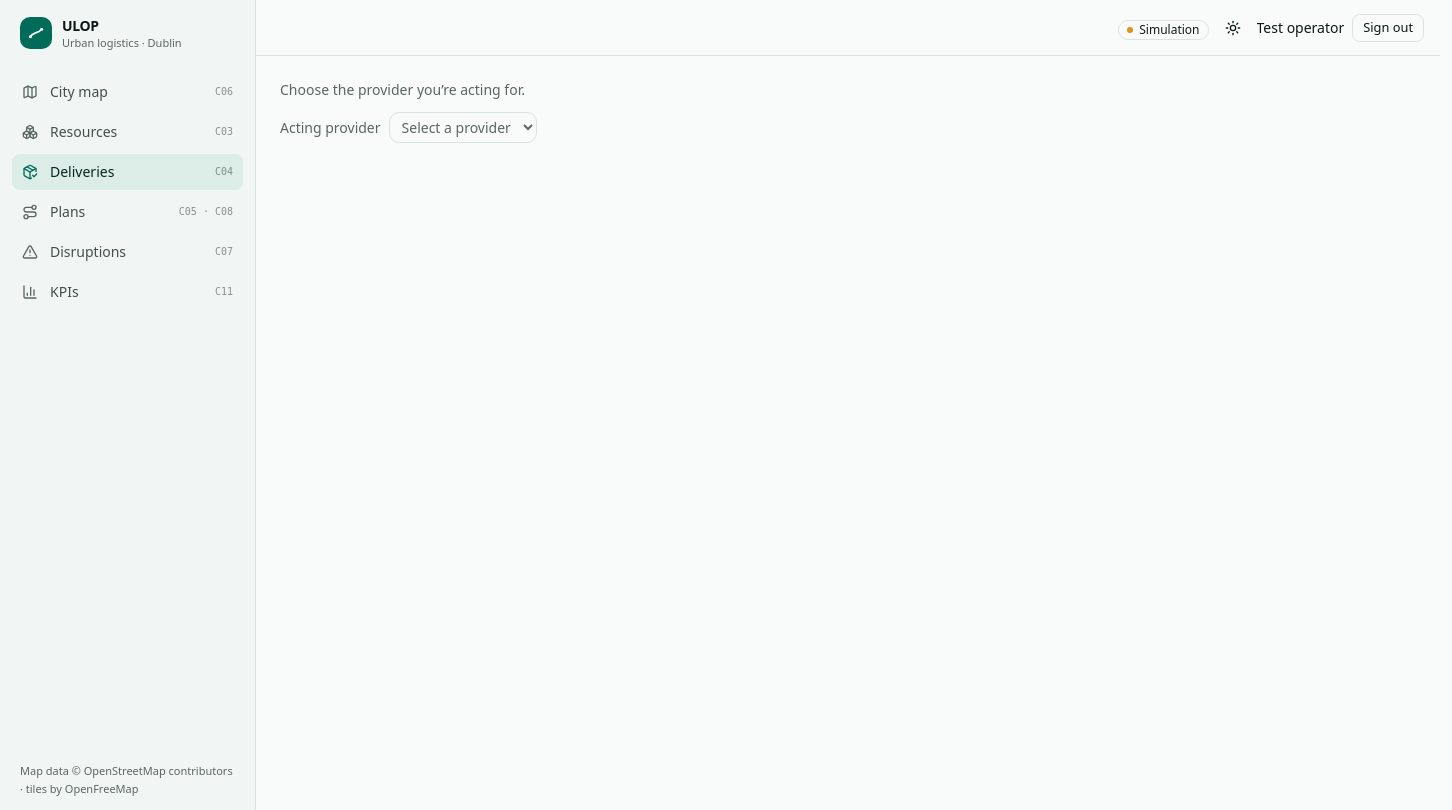
Test case: Deliveries page (C01 → C04) › keeps a chosen window until the Dublin preset is explicitly reset to the current UTC window
Select "Dublin Fleet A" in the dropdown labelled "Acting provider": (463, 128) [389, 112, 537, 143]
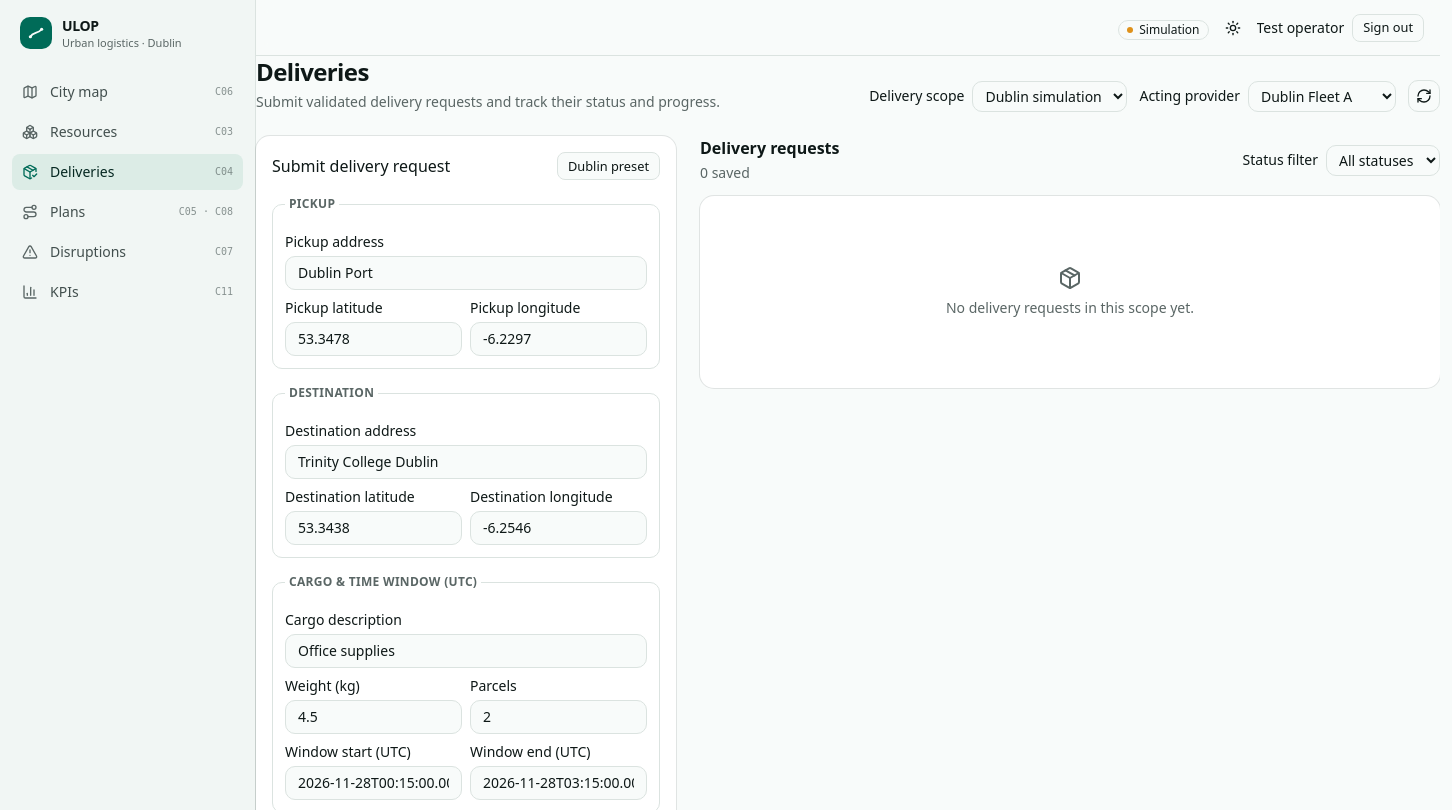
Expected: the field labelled "Window start (UTC)" holds "2026-11-28T00:15:00.000Z"
Expected: the field labelled "Window end (UTC)" holds "2026-11-28T03:15:00.000Z", [470, 766, 647, 800]
Replace the text in the field labelled "Window start (UTC)" with "2026-12-01T08:00:00Z": (374, 783) [285, 766, 462, 800]
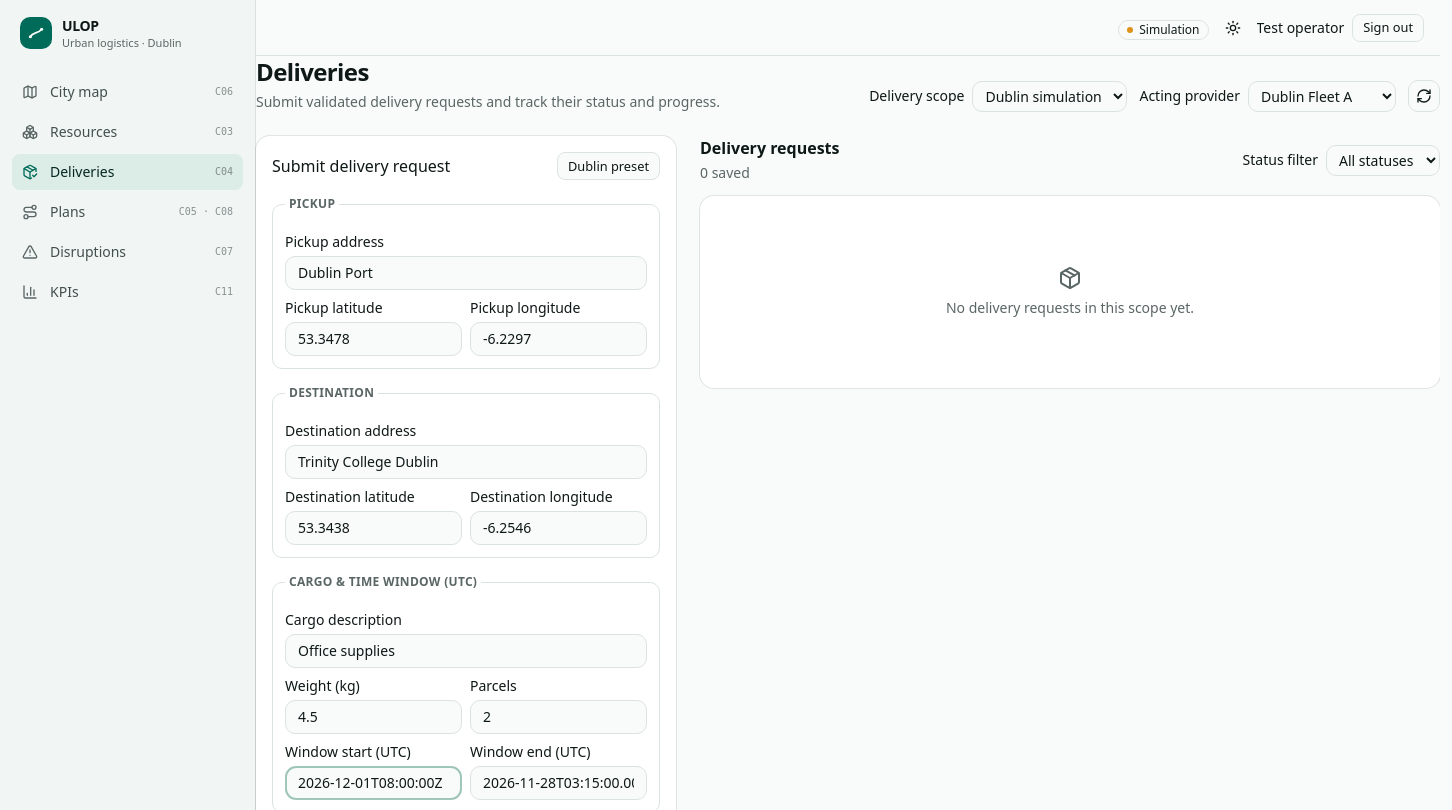
Click the button named "Refresh deliveries": (1424, 96) [1408, 80, 1440, 112]
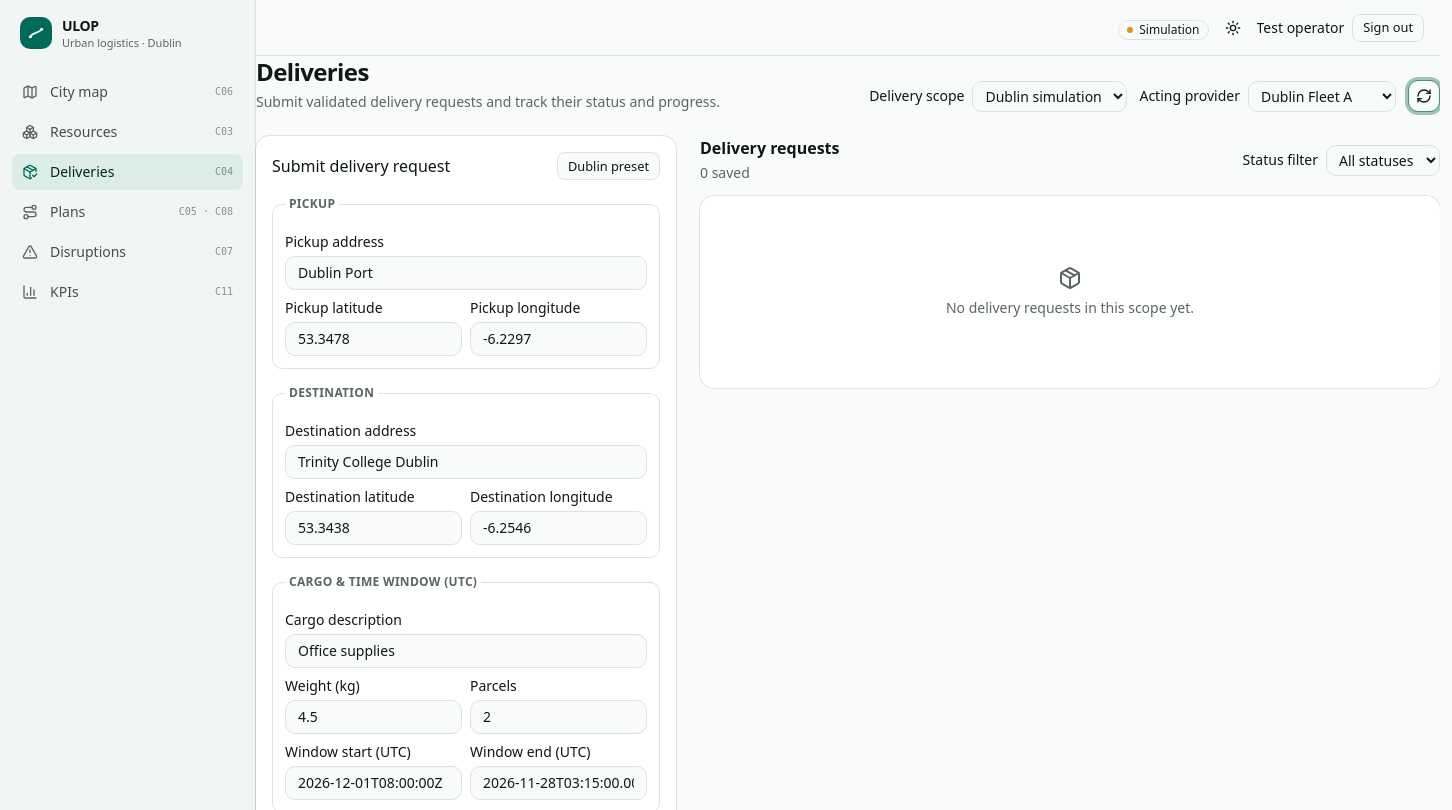
Click the button "Dublin preset": (608, 166) [557, 152, 660, 180]
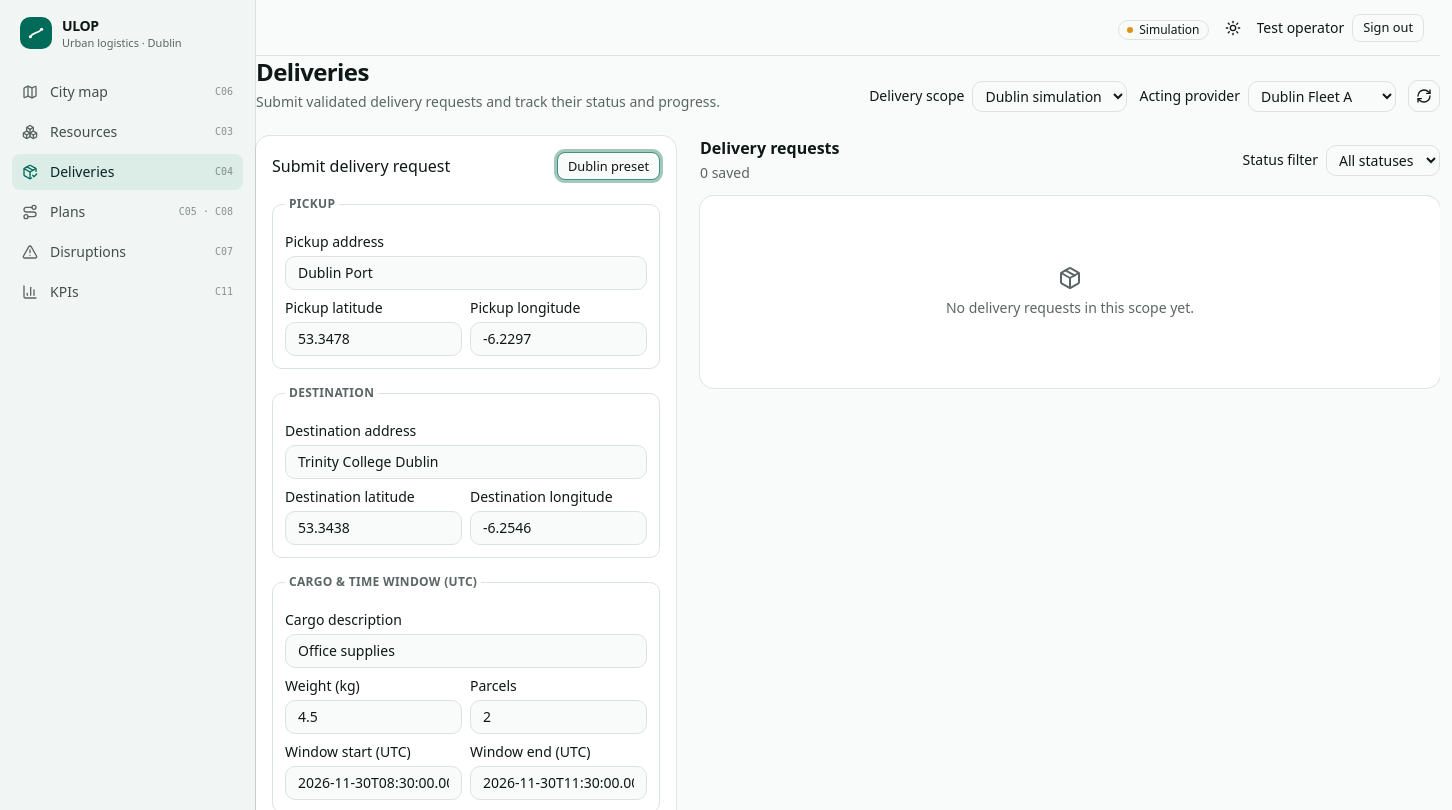
Expected: the field labelled "Window start (UTC)" holds "2026-11-30T08:30:00.000Z", [285, 766, 462, 800]
Expected: the field labelled "Window end (UTC)" holds "2026-11-30T11:30:00.000Z", [470, 766, 647, 800]
